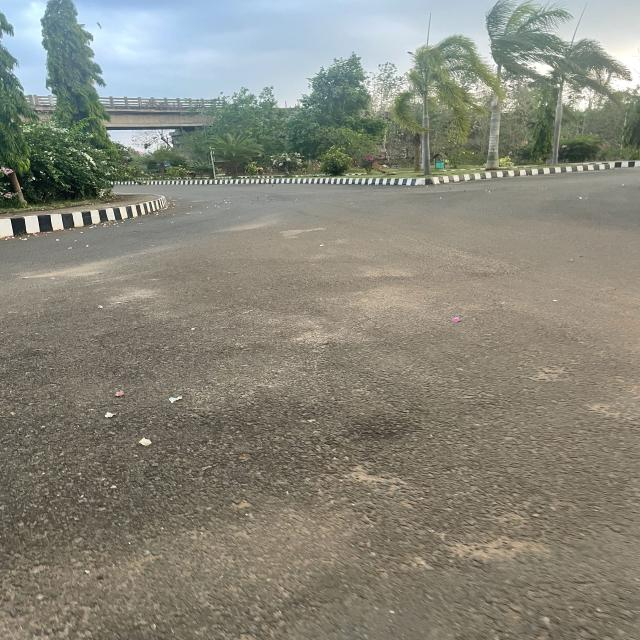D40: (259, 220, 349, 252)
D43: (325, 454, 566, 582)
